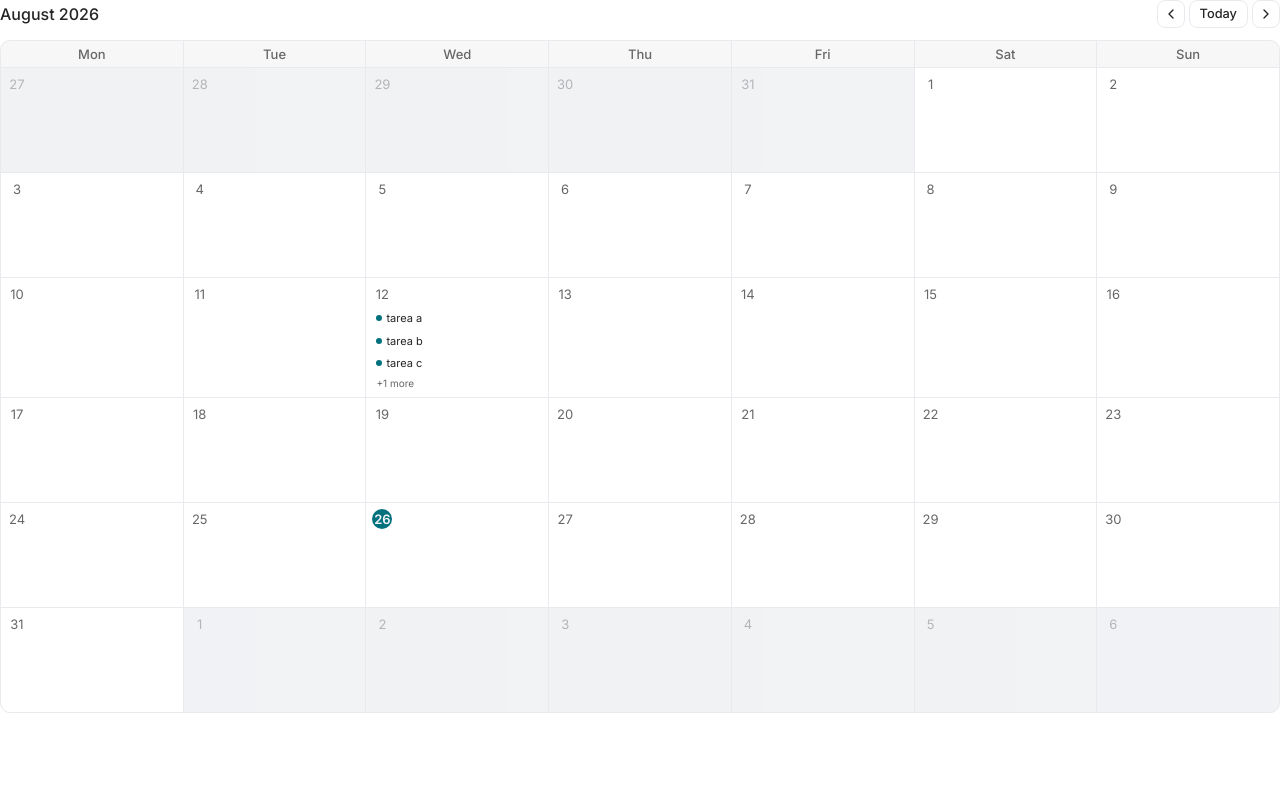
Test case: cuando no caben › y al pulsarlo salen todos
The width and height of the screenshot is (1280, 800).
Expected: the text "tarea d" is not shown
Click the button "+1 more" at (457, 383), box [372, 376, 542, 390]
(page scrolled)
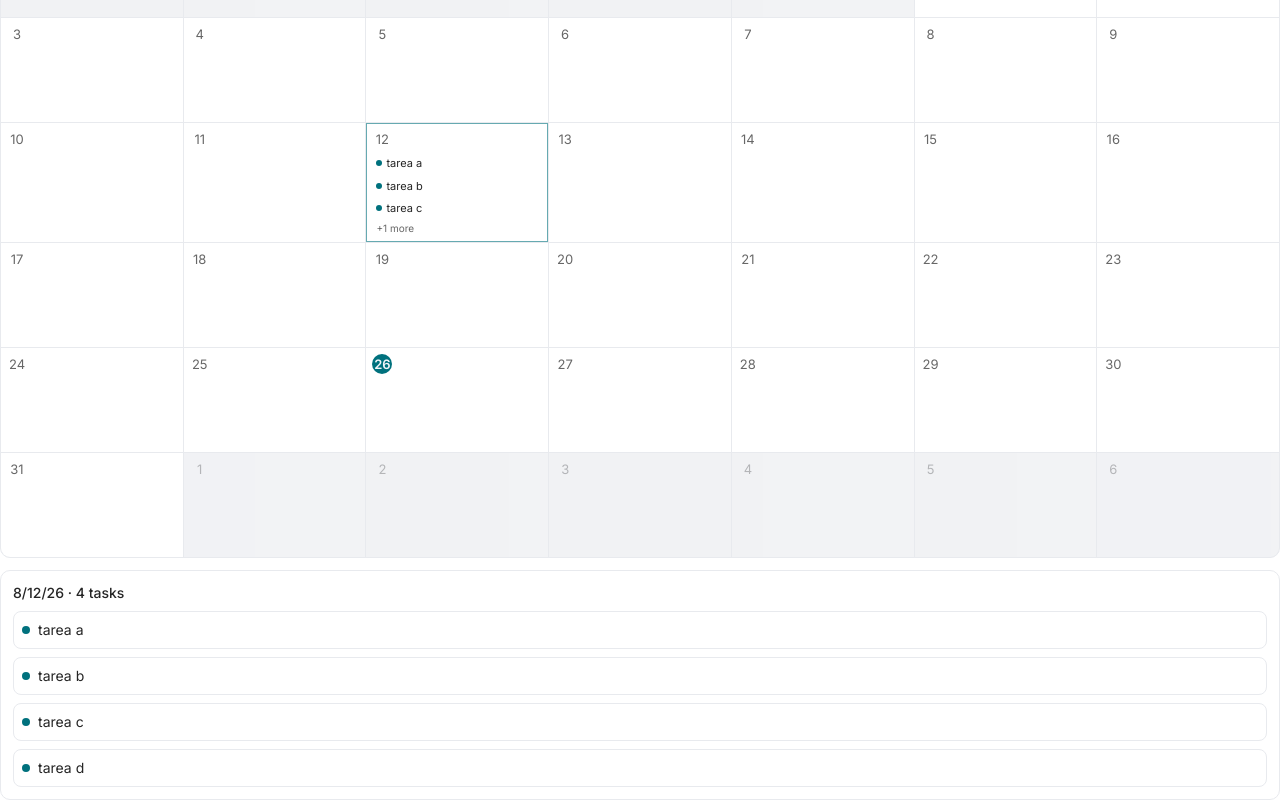
Now the text "tarea d" is shown, box [38, 758, 84, 778]
